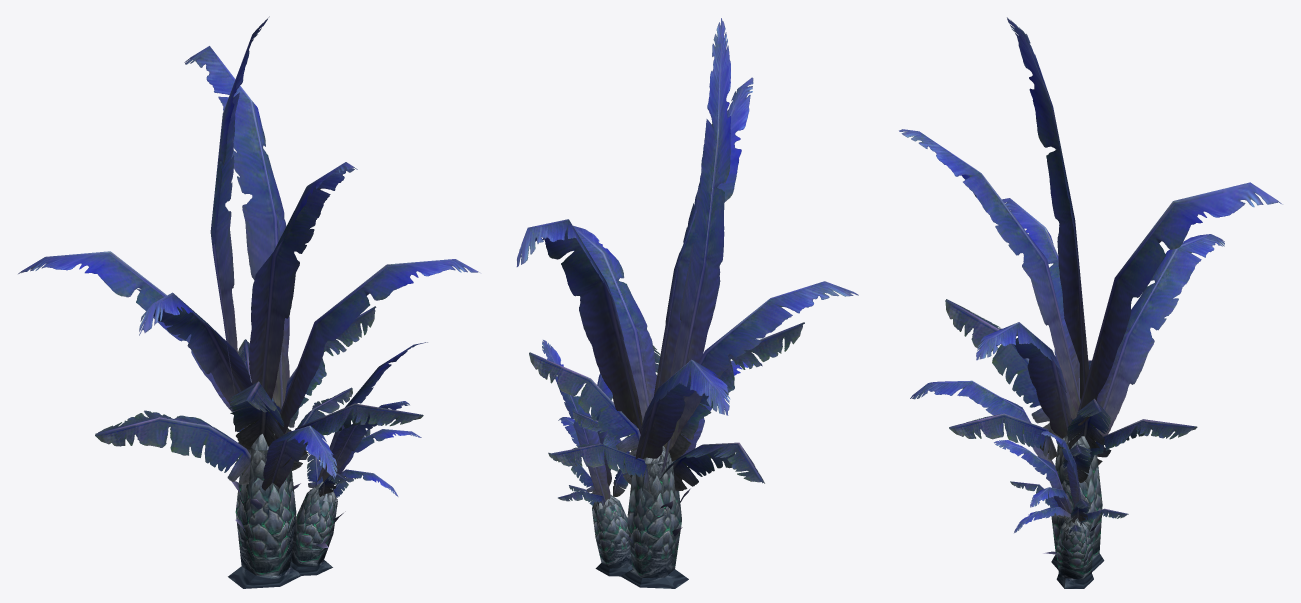
The model's file is zc_lekesigang_daguanmu02.FBX.
3 renders of one model, left to right at view 1: azimuth 30°, elevation 25°; view 2: azimuth 150°, elevation 25°; view 3: azimuth 270°, elevation 25°, orthographic. The views are drawn at different scales.
Parts seen in each view (by area): view 1: zc_lekesigang_daguanmu02; view 2: zc_lekesigang_daguanmu02; view 3: zc_lekesigang_daguanmu02.
Part boxes in pixels (left/top/right/bottom): zc_lekesigang_daguanmu02: left=18, top=16, right=479, bottom=588; zc_lekesigang_daguanmu02: left=516, top=18, right=858, bottom=588; zc_lekesigang_daguanmu02: left=899, top=17, right=1282, bottom=588.
Size of the model in its own units: 496 by 832 by 553.
1 material, 1 textured.
